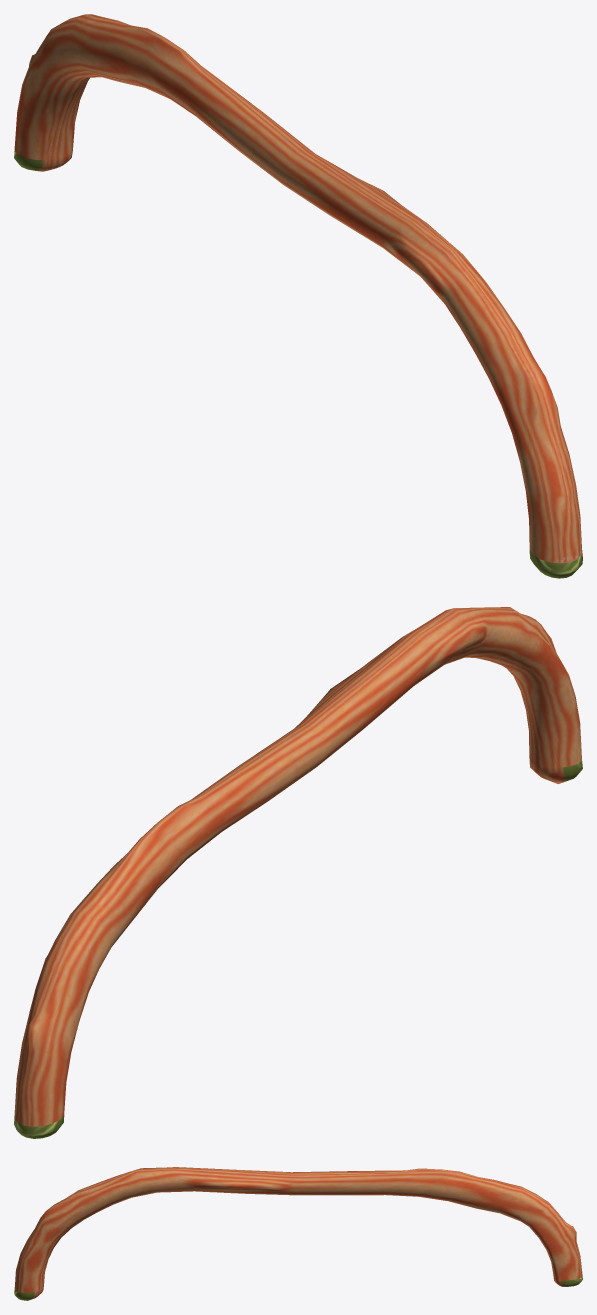
Rendered from Tree.fbx_Branch_Long_small.fbx.
The picture shows the model from 3 angles, top to bottom: view 1: azimuth 30°, elevation 25°; view 2: azimuth 150°, elevation 25°; view 3: azimuth 270°, elevation 25°; orthographic projection. The views are drawn at different scales.
Visible parts, largest first — view 1: Branch_Long; view 2: Branch_Long; view 3: Branch_Long.
Part boxes in pixels (bbox=[...]): Branch_Long: bbox=[14, 14, 582, 578]; Branch_Long: bbox=[14, 607, 582, 1138]; Branch_Long: bbox=[14, 1167, 582, 1300].
Size of the model in its own units: 326 by 1441 by 5595.
